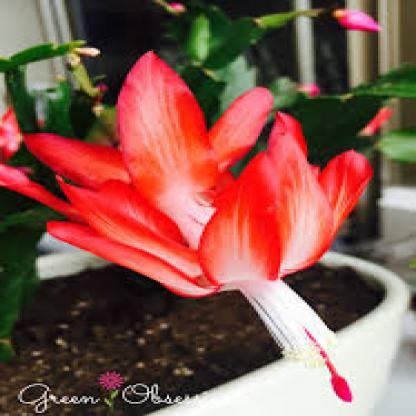Aglonema: (75, 37, 406, 277)
